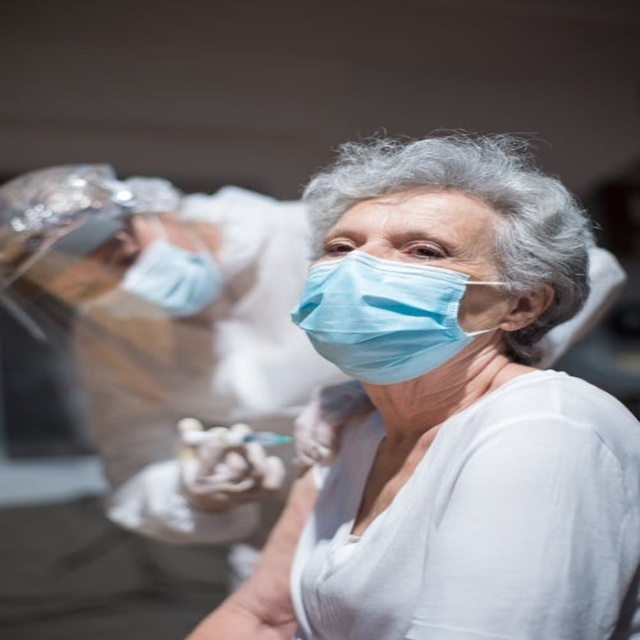Guantes: (173, 418, 290, 511)
Mascara: (291, 250, 501, 381), (117, 238, 225, 320)
Sin_gafas: (316, 218, 483, 267)
